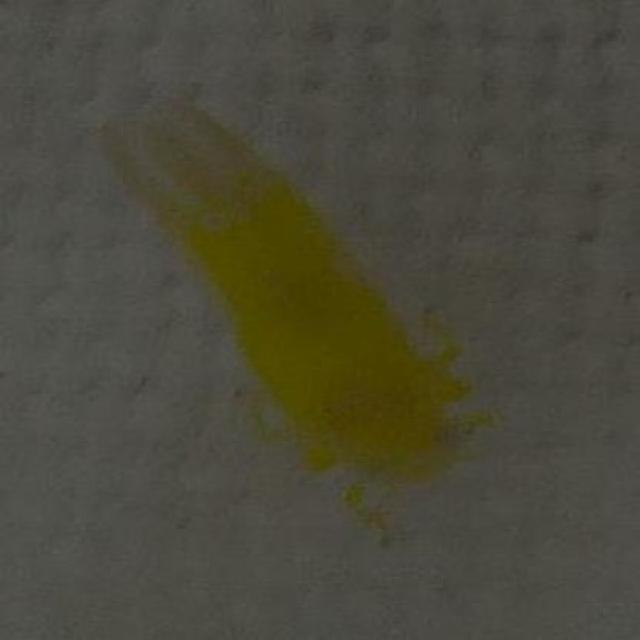green-leafhopper: (90, 83, 478, 492)
